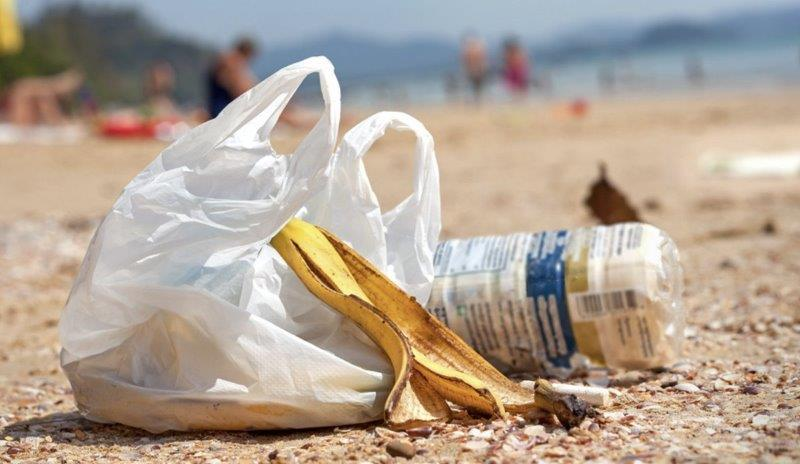organic: (259, 209, 596, 438)
plastic: (55, 51, 442, 434), (342, 215, 685, 372)
